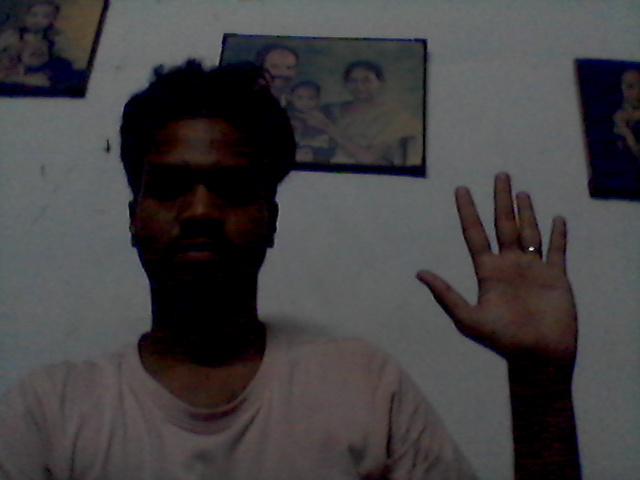Hi: (413, 171, 586, 375)
